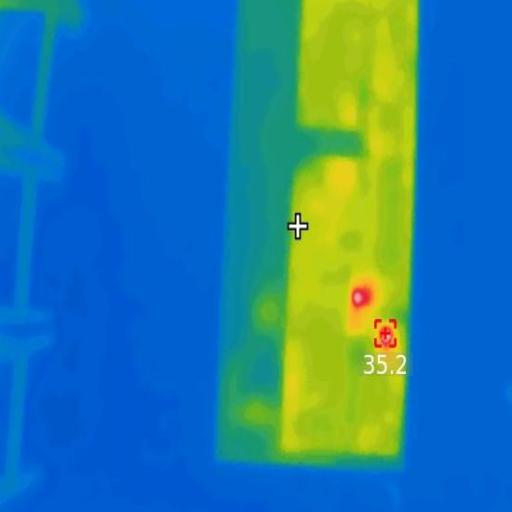hotspot: (351, 287, 367, 309), (377, 322, 392, 345)
